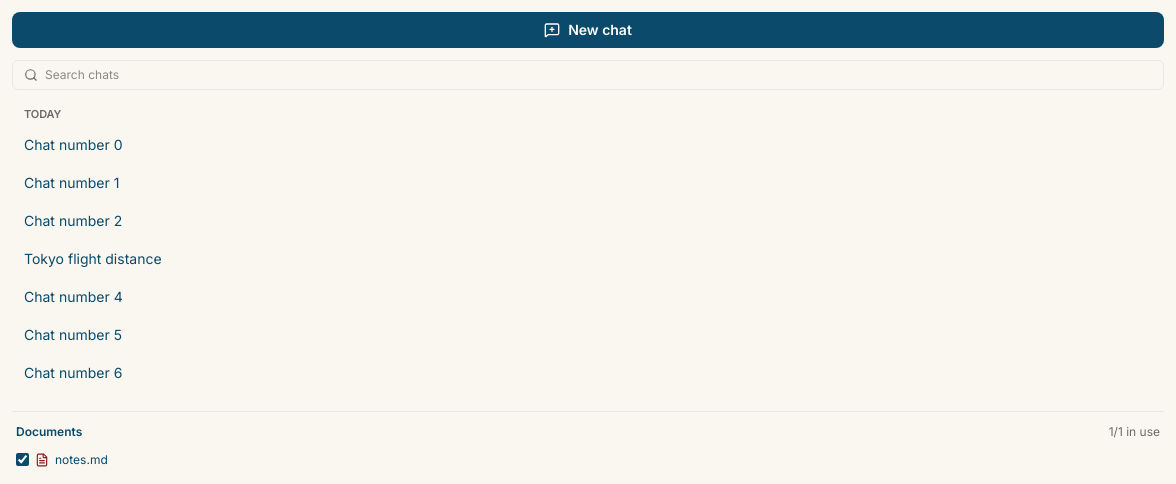
Test: searches once there are enough chats, and says when nothing matches
Type "tokyo" into the field with placeholder "Search chats" at {"x": 588, "y": 75}, box [12,60,1164,90]
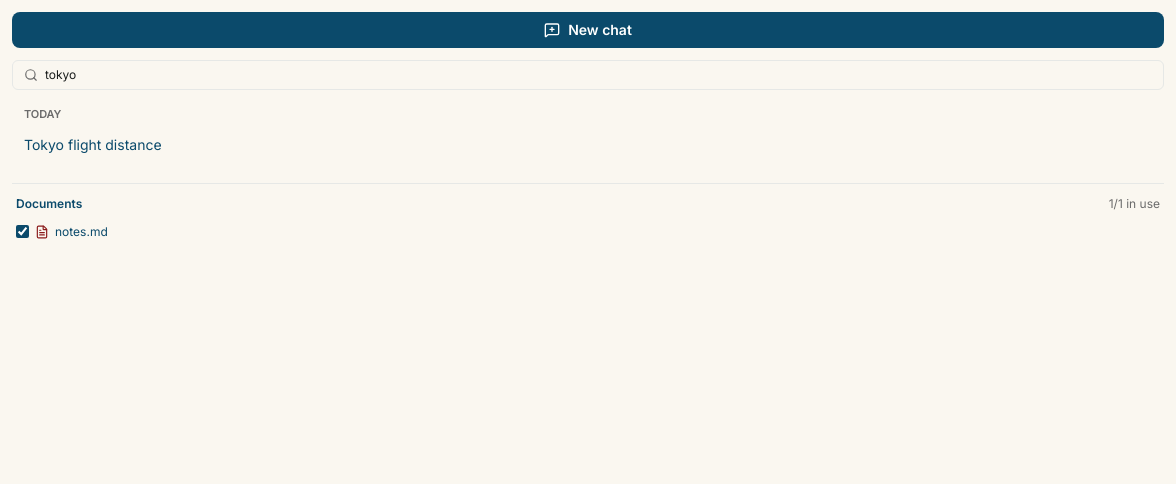
Expected: the button "Tokyo flight distance" is shown, [12,126,1110,162]
Now the button "Chat number 1" is gone
Replace the text in the field with placeholder "Search chats" with "zzz" at {"x": 588, "y": 75}, box [12,60,1164,90]
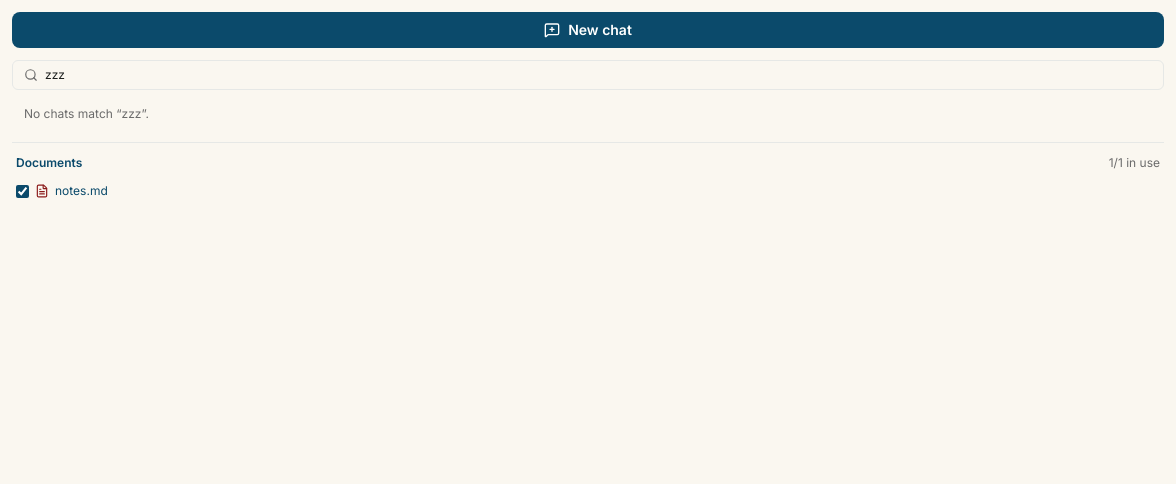
Now the text "No chats match “zzz”." is shown, box [24,106,149,121]
